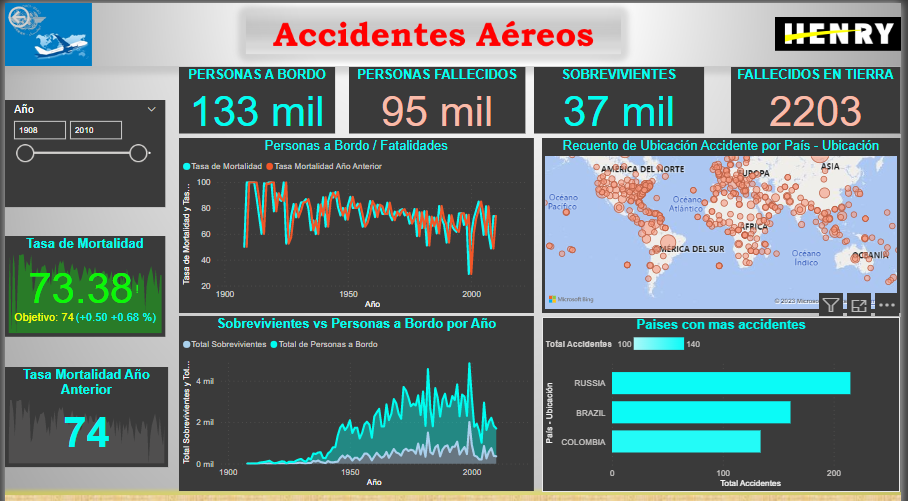

What the dashboard file says about the page in this screenshot:
{"tool":"powerbi","page":{"name":"TASA MORTALIDAD","canvas":[1280,720],"ordinal":1},"visuals":[{"type":"card","title":"PERSONAS  FALLECIDOS","fields":{"Values":["Sum(Acc_Aereos_EDA.Fatalidades)"]},"box":[492.9,91.4,251.4,95.7],"z":0},{"type":"card","title":"PERSONAS A BORDO","fields":{"Values":["Sum(Acc_Aereos_EDA.Nro Personas a Bordo)"]},"box":[248.3,91.7,223.3,95],"z":1000},{"type":"lineChart","title":"Personas a Bordo / Fatalidades","fields":{"Category":["Calendario.Año"],"Y":["Tabla de Medidas.Tasa de Mortalidad","Tabla de Medidas.Tasa Mortalidad Año Anterior"]},"box":[248.3,193.3,506.7,250],"z":2000},{"type":"map","fields":{"Size":["CountNonNull(Acc_Aereos_EDA.Ubicación Accidente)"],"Category":["Acc_Aereos_EDA.País - Ubicación"]},"box":[766.7,193.3,511.7,250],"z":3000},{"type":"actionButton","box":[0,0,100,40],"z":4000},{"type":"kpi","title":"Tasa Mortalidad Año Anterior ","fields":{"Indicator":["Tabla de Medidas.Tasa Mortalidad Año Anterior"],"TrendLine":["Calendario.Año"]},"box":[0,418.6,232.9,142.9],"z":5000},{"type":"kpi","title":"Tasa de Mortalidad ","fields":{"TrendLine":["Calendario.Año"],"Goal":["Tabla de Medidas.Tasa Mortalidad Año Anterior"],"Indicator":["Tabla de Medidas.Tasa de Mortalidad"]},"box":[0,258.6,228.6,144.3],"z":6000},{"type":"stackedAreaChart","title":"Sobrevivientes vs Personas a Bordo por Año","fields":{"Category":["Calendario.Año"],"Y":["Tabla de Medidas.Total Sobrevivientes","Tabla de Medidas.Total de Personas a Bordo"]},"box":[248.6,447.1,507.1,250],"z":7000},{"type":"clusteredBarChart","title":"Paises con mas accidentes","fields":{"Y":["Tabla de Medidas.Total Accidentes"],"Category":["Acc_Aereos_EDA.País - Ubicación"]},"box":[767,448,512,250],"z":8000},{"type":"card","title":"FALLECIDOS EN TIERRA","fields":{"Values":["Tabla de Medidas.Fallecidos en Tierra"]},"box":[1030,90,241.4,95.7],"z":9000},{"type":"card","title":"SOBREVIVIENTES","fields":{"Values":["Tabla de Medidas.Total Sobrevivientes"]},"box":[767.1,91.4,241.4,94.3],"z":10000},{"type":"slicer","fields":{"Values":["Calendario.Año"]},"box":[0,91.4,228.6,152.9],"z":11000},{"type":"pageNavigator","box":[15.7,578.6,195.7,120],"z":12000}]}

Visuals, with their boxes in screenshot pixels (x1, y1, x2, y2), scaled from the page's 1280x720 canvas onto the 908x501 screenshot:
"PERSONAS  FALLECIDOS" card: region(350, 64, 528, 130)
"PERSONAS A BORDO" card: region(176, 64, 335, 130)
"Personas a Bordo / Fatalidades" lineChart: region(176, 135, 536, 308)
map - CountNonNull(Acc_Aereos_EDA.Ubicación Accidente) x Acc_Aereos_EDA.País - Ubicación: region(544, 135, 907, 308)
actionButton: region(0, 0, 71, 28)
"Tasa Mortalidad Año Anterior " kpi: region(0, 291, 165, 391)
"Tasa de Mortalidad " kpi: region(0, 180, 162, 280)
"Sobrevivientes vs Personas a Bordo por Año" stackedAreaChart: region(176, 311, 536, 485)
"Paises con mas accidentes" clusteredBarChart: region(544, 312, 907, 486)
"FALLECIDOS EN TIERRA" card: region(731, 63, 902, 129)
"SOBREVIVIENTES" card: region(544, 64, 715, 129)
slicer - Calendario.Año: region(0, 64, 162, 170)
pageNavigator: region(11, 403, 150, 486)
